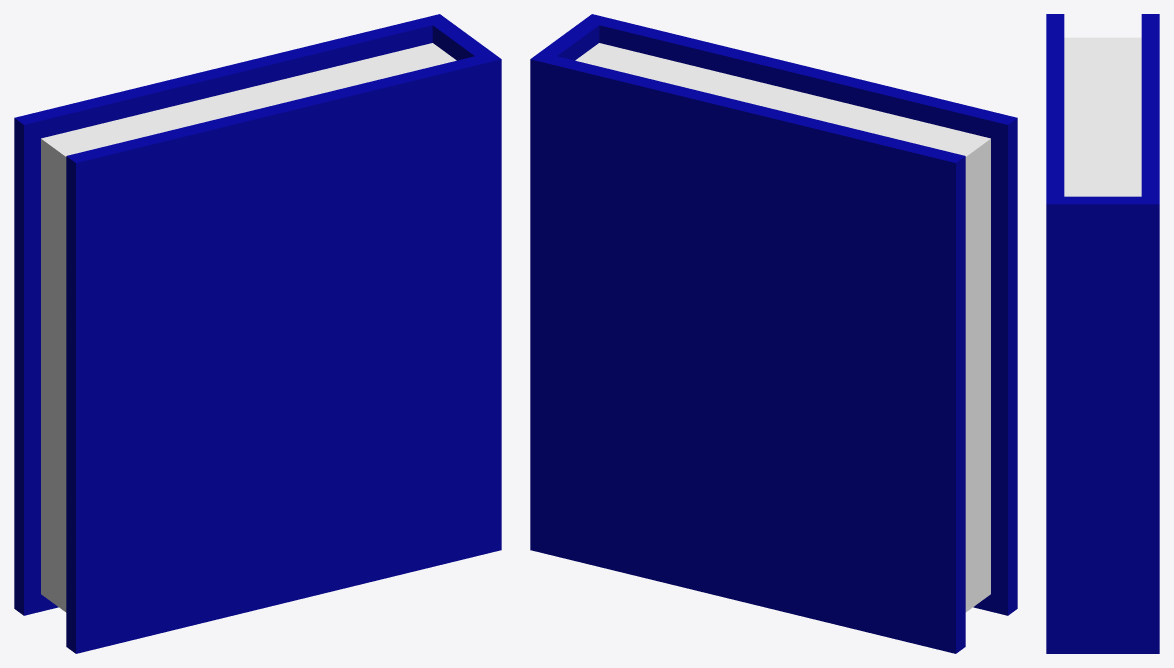
The model's file is Prop_book_001.FBX.
The picture shows the model from 3 angles, left to right: view 1: azimuth 30°, elevation 25°; view 2: azimuth 150°, elevation 25°; view 3: azimuth 270°, elevation 25°; orthographic projection. The views are drawn at different scales.
Visible parts, largest first — view 1: Prop_book_001; view 2: Prop_book_001; view 3: Prop_book_001.
Boxes of the visible parts, left/top/right/bottom form: Prop_book_001: left=14, top=14, right=501, bottom=653; Prop_book_001: left=530, top=14, right=1017, bottom=653; Prop_book_001: left=1046, top=14, right=1159, bottom=653.
Size of the model in its own units: 0.2522 by 0.278 by 0.0635.
